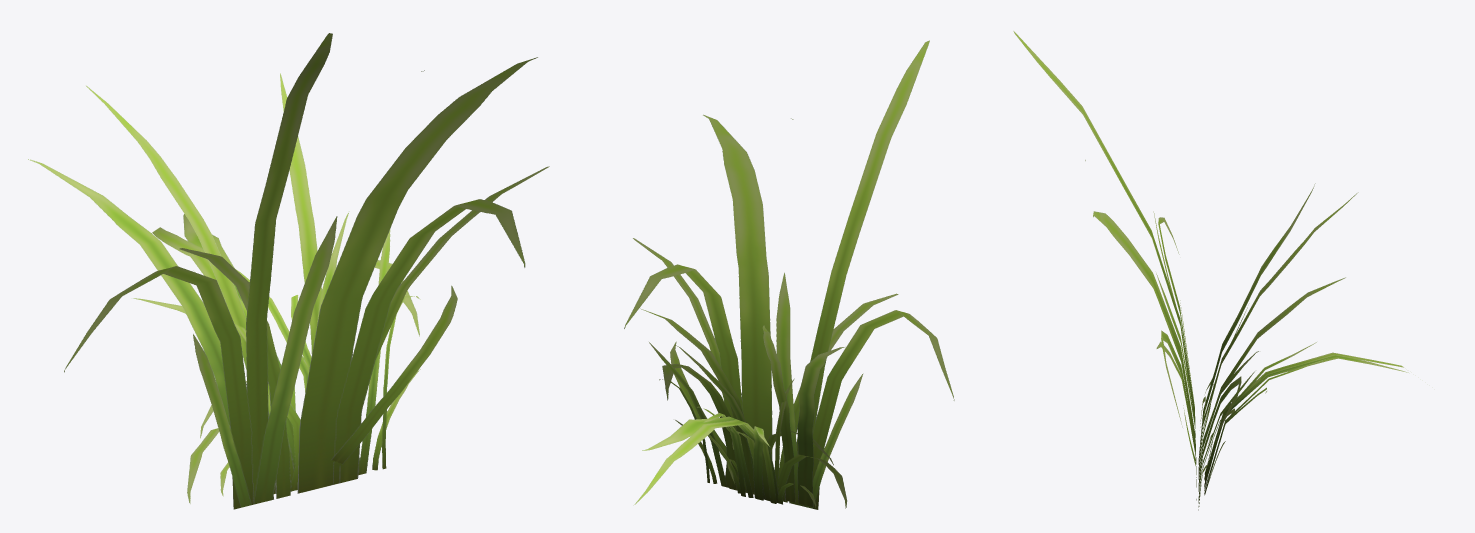
The model's file is Grass_5.fbx.
3 views of the same model, side by side, from view 1: azimuth 30°, elevation 25°; view 2: azimuth 150°, elevation 25°; view 3: azimuth 270°, elevation 25° (orthographic). The views are drawn at different scales.
Visible parts, largest first — view 1: T_Low28; view 2: T_Low28; view 3: T_Low28.
Part boxes in pixels (x1,y1,x2,y2): T_Low28: (28,33,549,509); T_Low28: (624,40,954,509); T_Low28: (1013,31,1408,510).
Bounding box in the file's own units: 54.05 × 61.99 × 59.52.
